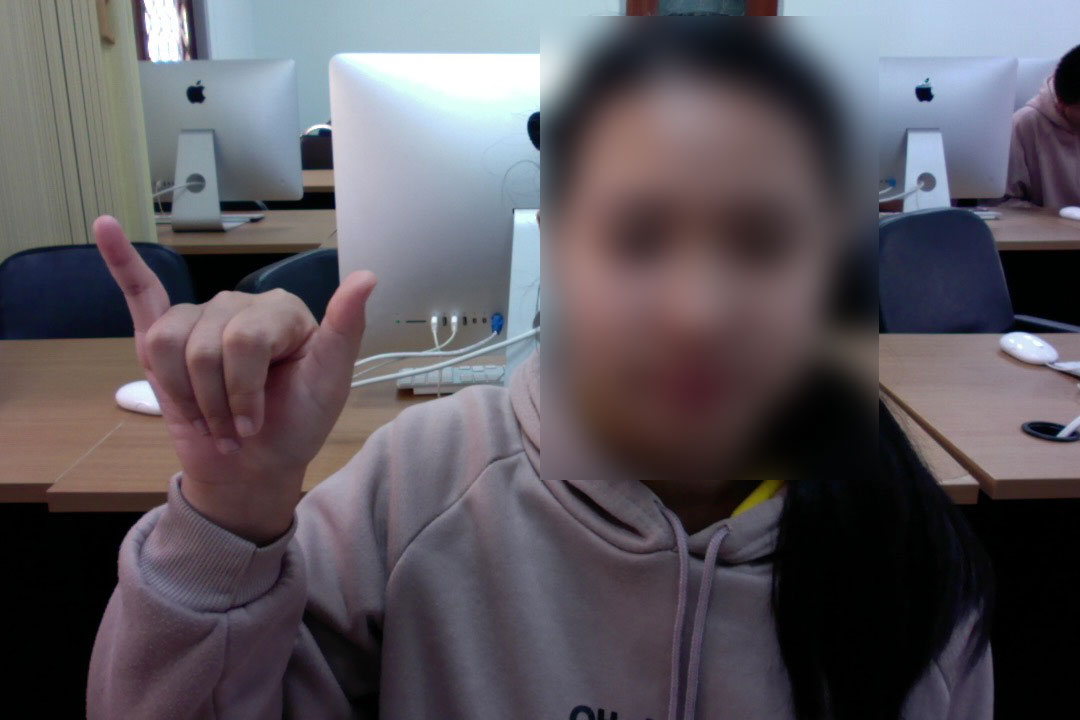yor: (85, 209, 406, 516)
